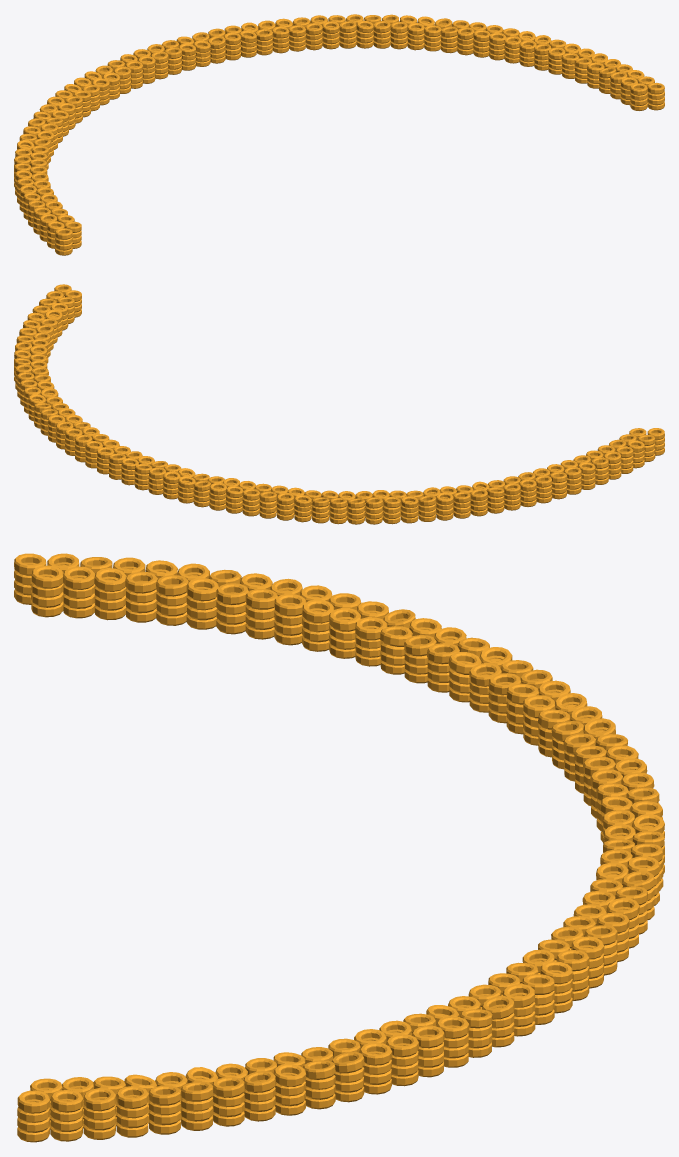
The model's file is SM_Fence_Road_Tire_Multicolor_40x20m_Corner_Double_Inner.fbx.
3 views of the same model, one above another, from view 1: azimuth 30°, elevation 25°; view 2: azimuth 150°, elevation 25°; view 3: azimuth 270°, elevation 25° (orthographic). The views are drawn at different scales.
Visible parts, largest first — view 1: SM_Fence_Road_Tire_Multicolor_40x20m_Corner_Double_Inner; view 2: SM_Fence_Road_Tire_Multicolor_40x20m_Corner_Double_Inner; view 3: SM_Fence_Road_Tire_Multicolor_40x20m_Corner_Double_Inner.
Part boxes in pixels (x1,y1,x2,y2): SM_Fence_Road_Tire_Multicolor_40x20m_Corner_Double_Inner: [14, 14, 664, 255]; SM_Fence_Road_Tire_Multicolor_40x20m_Corner_Double_Inner: [14, 284, 664, 524]; SM_Fence_Road_Tire_Multicolor_40x20m_Corner_Double_Inner: [14, 553, 664, 1142].
Bounding box in the file's own units: 37.43 × 1.28 × 18.68.
